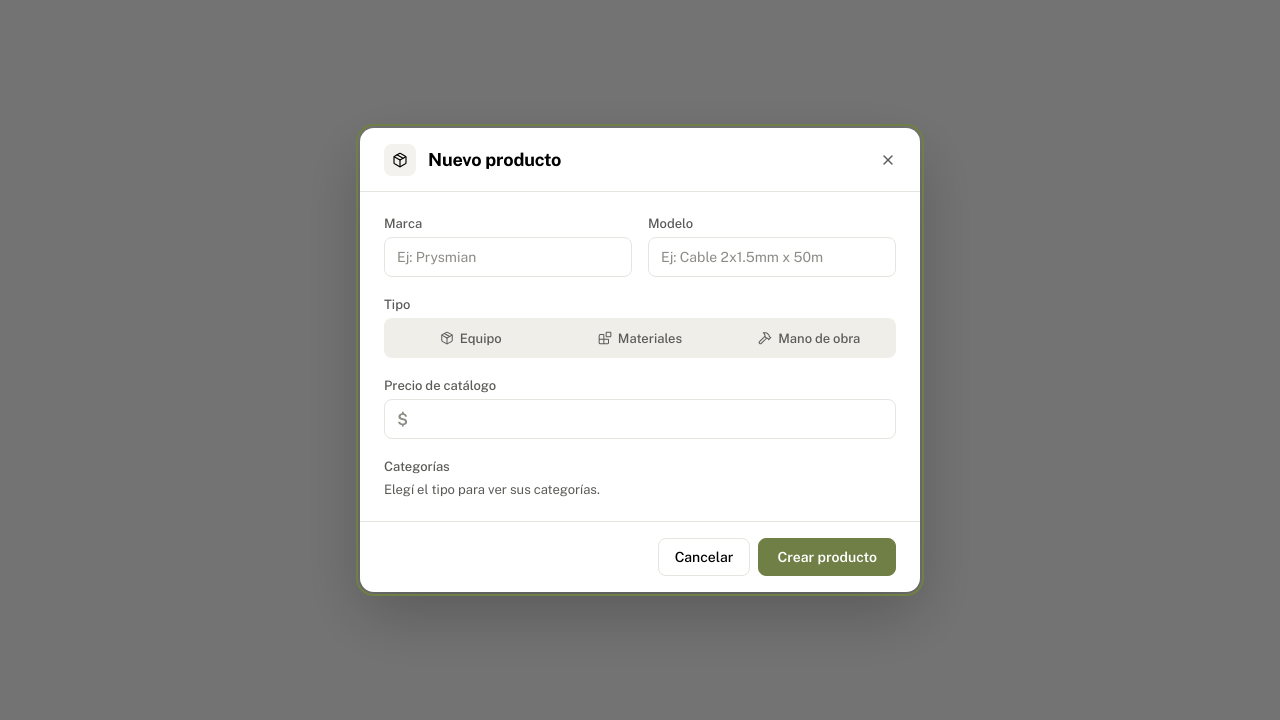
Test case: proveedor y producto: errores en cada campo › producto vacío marca marca, modelo, tipo y precio
Check: the text "Elegí el tipo para ver sus categorías." is shown, box [384,482,600,497]
Click the button "Crear producto": (827, 557) [758,538,896,576]
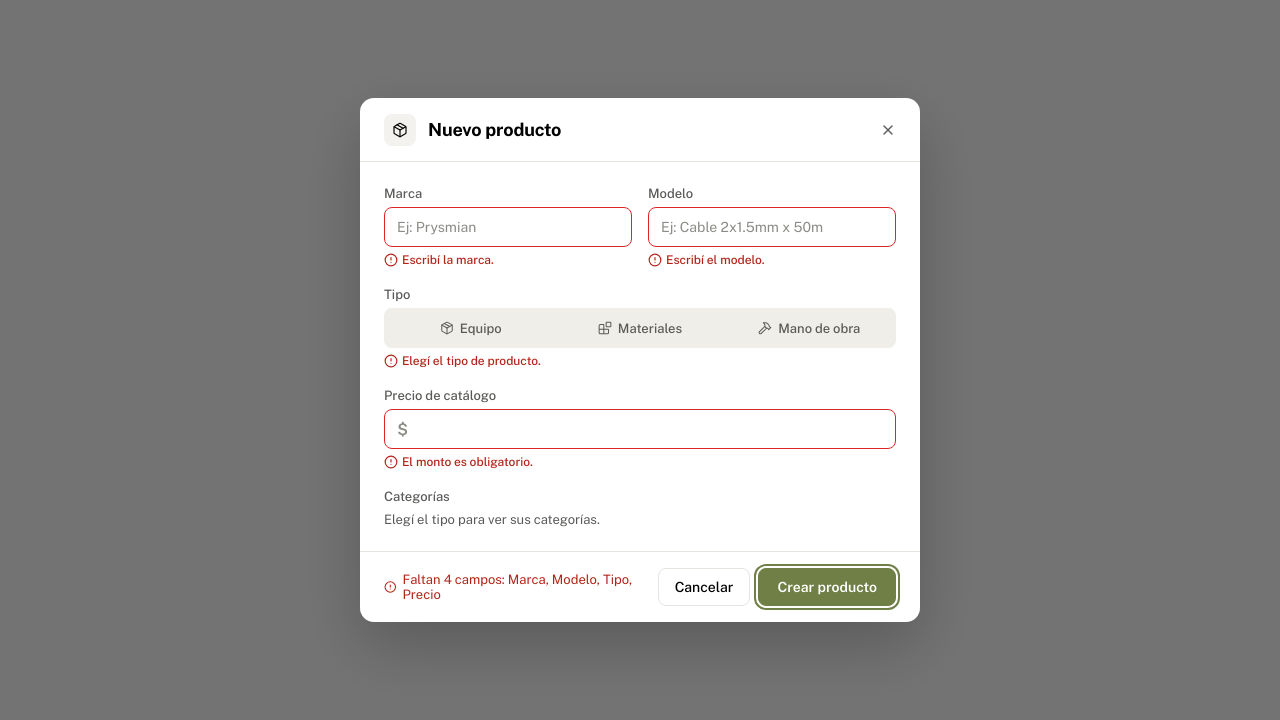
Check: the text "Faltan 4 campos: Marca, Modelo, Tipo, Precio" is shown, box [384,572,646,602]
